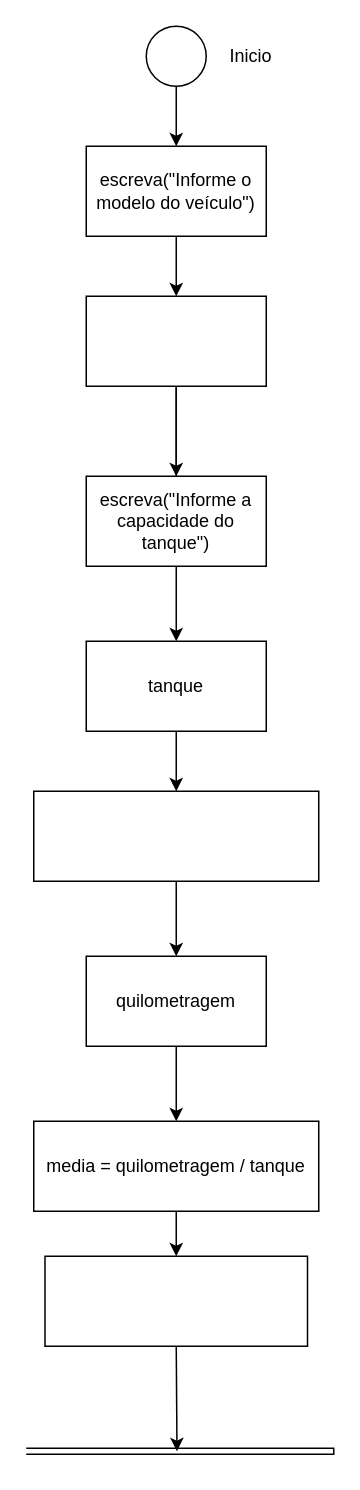
Image size: 360x1490. Some labels were removed from this diagram. The shapes that lost their labels are listed below. From the top down, each one's box as (x1, y1, x2, y2) in pixels, then its label:
(85, 295, 266, 386): modelo
(32, 790, 319, 881): escreva("Informe a quilometragem rodada")
(44, 1255, 308, 1346): escreva(" A média do veículo foi de: " + media + " km/L")
